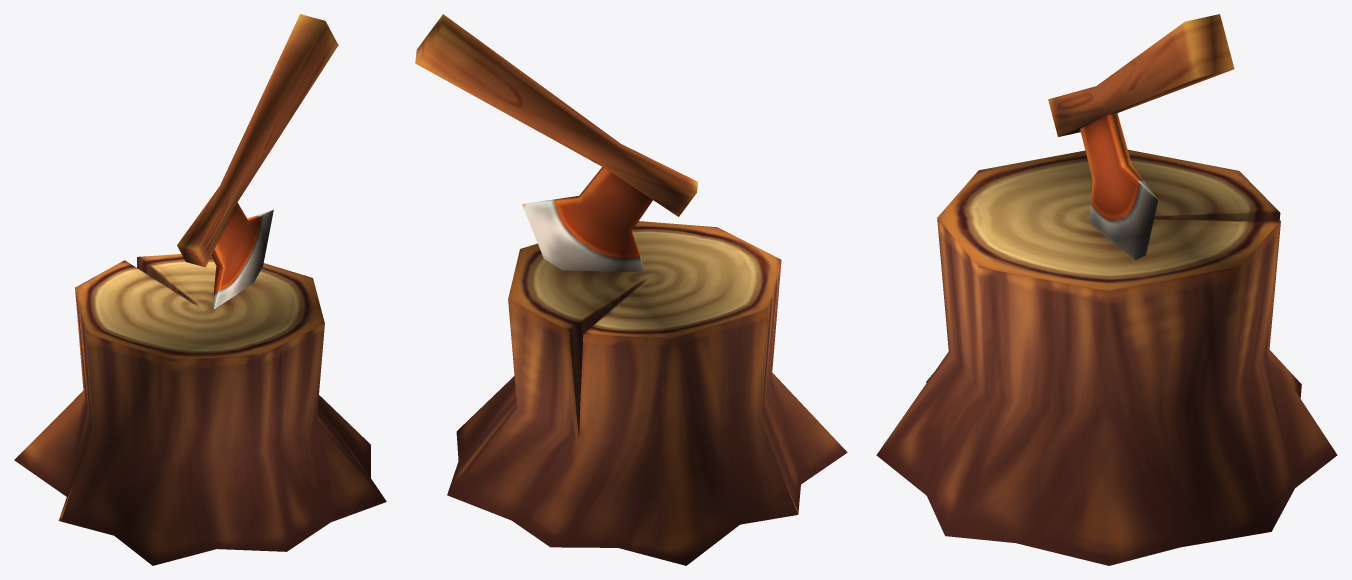
Rendered from stump.obj.
3 renders of one model, left to right at view 1: azimuth 30°, elevation 25°; view 2: azimuth 150°, elevation 25°; view 3: azimuth 270°, elevation 25°, orthographic. The views are drawn at different scales.
Visible parts, largest first — view 1: farm_stump_01_blend:farm_stump_farm_stump_mesh; view 2: farm_stump_01_blend:farm_stump_farm_stump_mesh; view 3: farm_stump_01_blend:farm_stump_farm_stump_mesh.
Boxes of the visible parts, <box> form: farm_stump_01_blend:farm_stump_farm_stump_mesh: <box>14,14,386,565</box>; farm_stump_01_blend:farm_stump_farm_stump_mesh: <box>415,14,847,565</box>; farm_stump_01_blend:farm_stump_farm_stump_mesh: <box>876,14,1337,565</box>.
Size of the model in its own units: 0.7593 by 0.9389 by 0.7355.
1 material, 1 textured.
